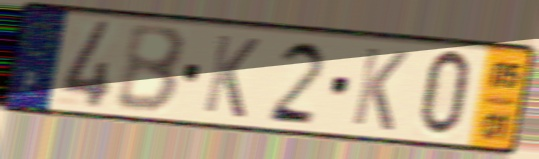0: (416, 46, 476, 144)
2: (262, 38, 331, 128)
4: (59, 19, 115, 111)
B: (113, 25, 189, 117)
K: (348, 43, 412, 135), (200, 31, 264, 122)
